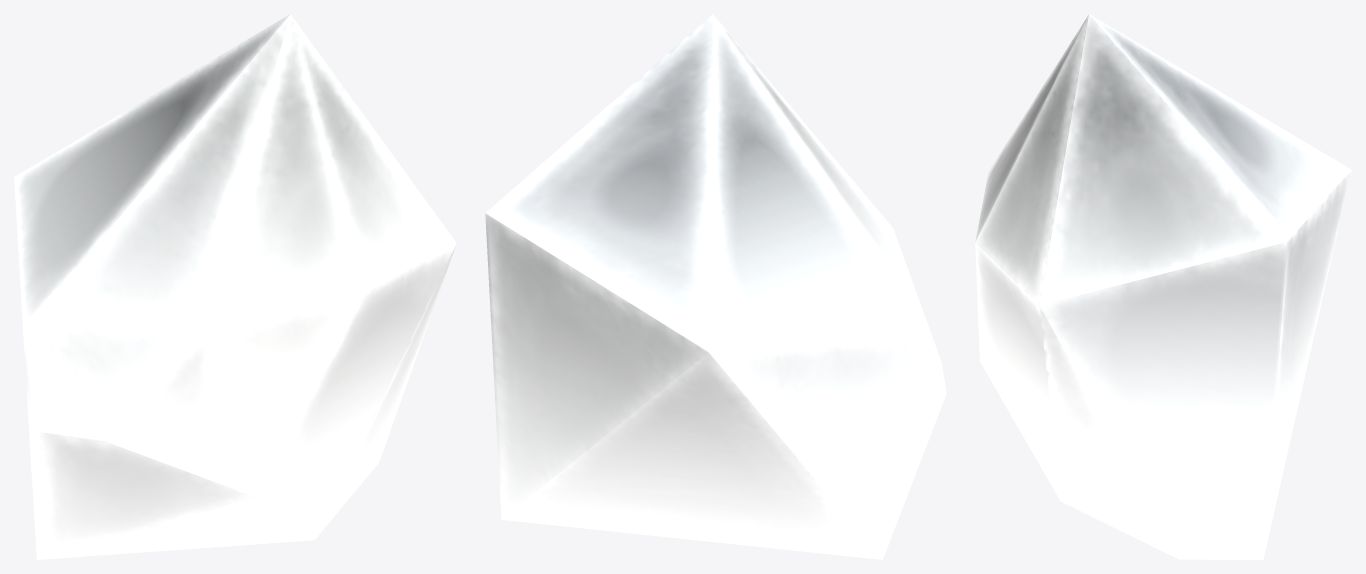
Rendered from crystal_piece_005.fbx.
3 views of the same model, side by side, from view 1: azimuth 30°, elevation 25°; view 2: azimuth 150°, elevation 25°; view 3: azimuth 270°, elevation 25° (orthographic). The views are drawn at different scales.
Visible parts, largest first — view 1: crystal_piece_005; view 2: crystal_piece_005; view 3: crystal_piece_005.
Part boxes in pixels (left/top/right/bottom): crystal_piece_005: left=14, top=14, right=456, bottom=559; crystal_piece_005: left=485, top=14, right=946, bottom=559; crystal_piece_005: left=975, top=14, right=1351, bottom=559.
Bounding box in the file's own units: 0.4619 × 0.5778 × 0.408.
Materials: 1 (1 with a texture image).
